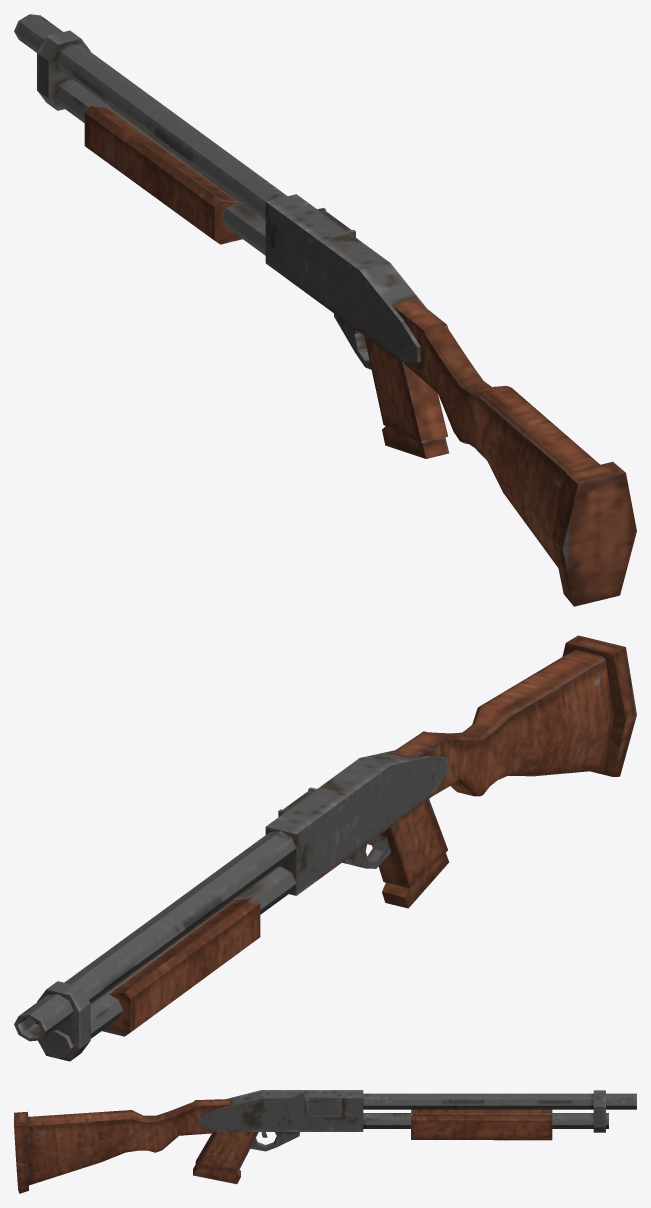
Rendered from Shotgun.fbx.
The picture shows the model from 3 angles, top to bottom: view 1: azimuth 30°, elevation 25°; view 2: azimuth 150°, elevation 25°; view 3: azimuth 270°, elevation 25°; orthographic projection. The views are drawn at different scales.
Visible parts, largest first — view 1: Shotgun, Shotgun-Detach; view 2: Shotgun, Shotgun-Detach; view 3: Shotgun, Shotgun-Detach.
Part boxes in pixels (x1=…): Shotgun: x1=14, y1=14, x2=636, y2=606; Shotgun-Detach: x1=84, y1=106, x2=242, y2=244; Shotgun: x1=14, y1=635, x2=636, y2=1061; Shotgun-Detach: x1=102, y1=897, x2=260, y2=1036; Shotgun: x1=14, y1=1090, x2=636, y2=1193; Shotgun-Detach: x1=411, y1=1109, x2=552, y2=1140.
Bounding box in the file's own units: 204 × 457 × 2735.
1 material, 1 textured.
